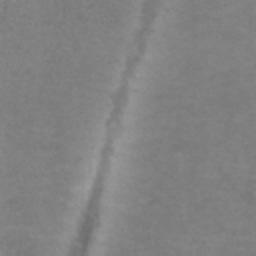Finishing roll printing: (68, 0, 161, 256)
